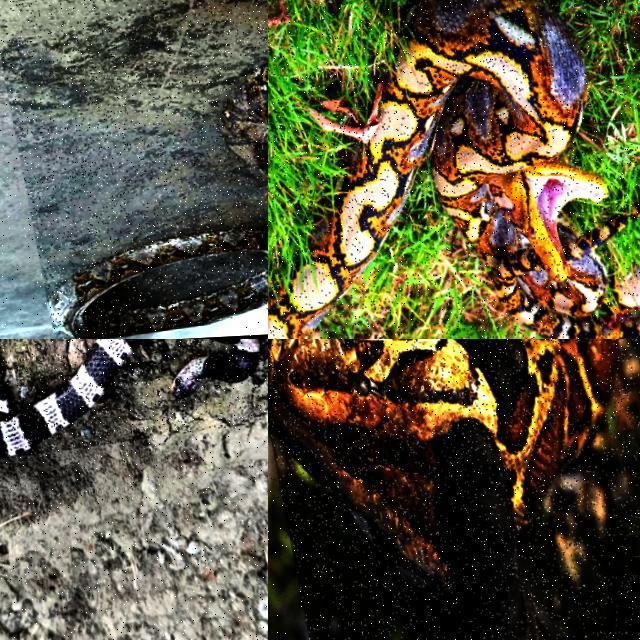Bungarus candidus: (0, 339, 150, 456)
Malayopython reticulatus: (268, 0, 639, 338), (48, 226, 267, 336)
Python bivittatus: (268, 339, 617, 592)
